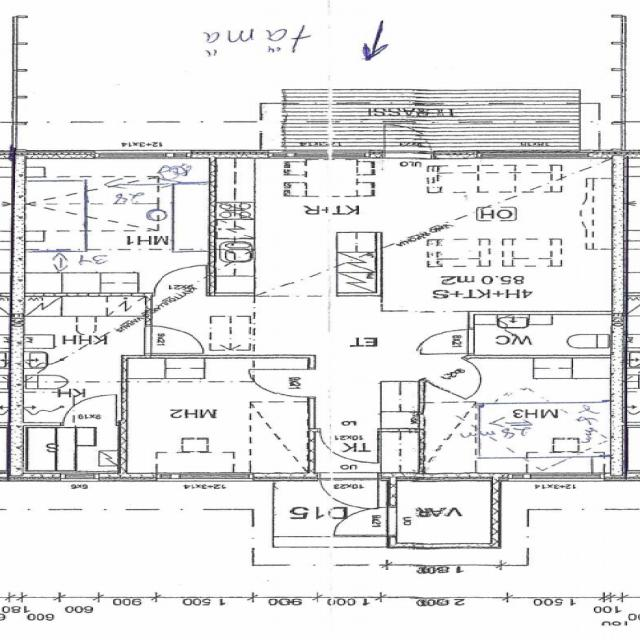door: (422, 359, 504, 401), (320, 473, 378, 511), (321, 428, 377, 462), (62, 393, 116, 428), (254, 369, 315, 397), (144, 326, 204, 354), (384, 126, 432, 159), (336, 508, 396, 534), (154, 266, 205, 296), (424, 329, 476, 353)
